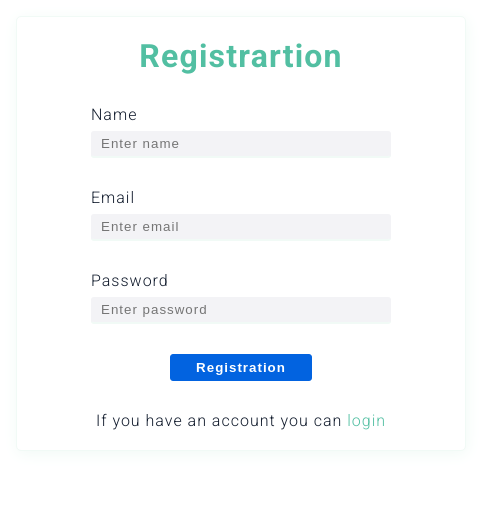
Test case: registration comp › errors should be rendered in case input values are empty after button click
Click the button "Registration" at coordinates (241, 368), box [170,354,312,381]
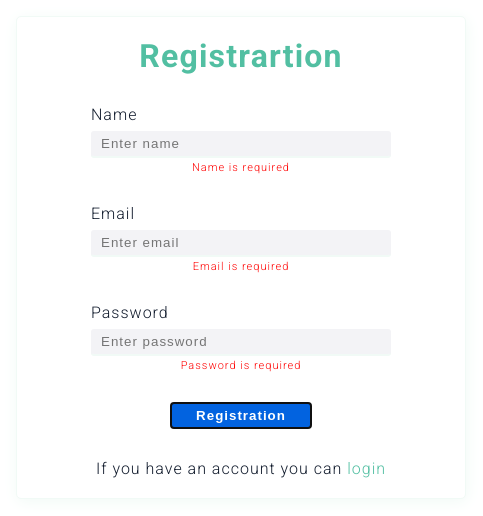
Result: the text "Name is required" is shown at [192,161,290,174]
Result: the text "Email is required" is shown at [193,260,289,273]
Result: the text "Password is required" is shown at [181,359,301,372]
